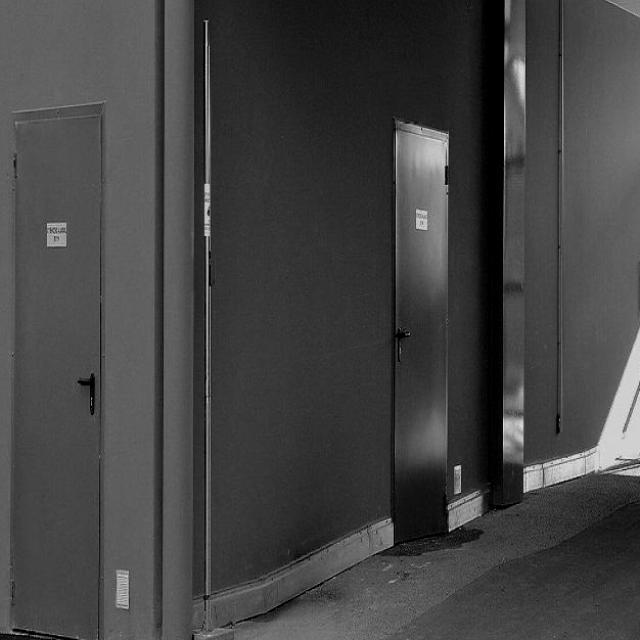door: (0, 97, 109, 638), (382, 111, 457, 545)
